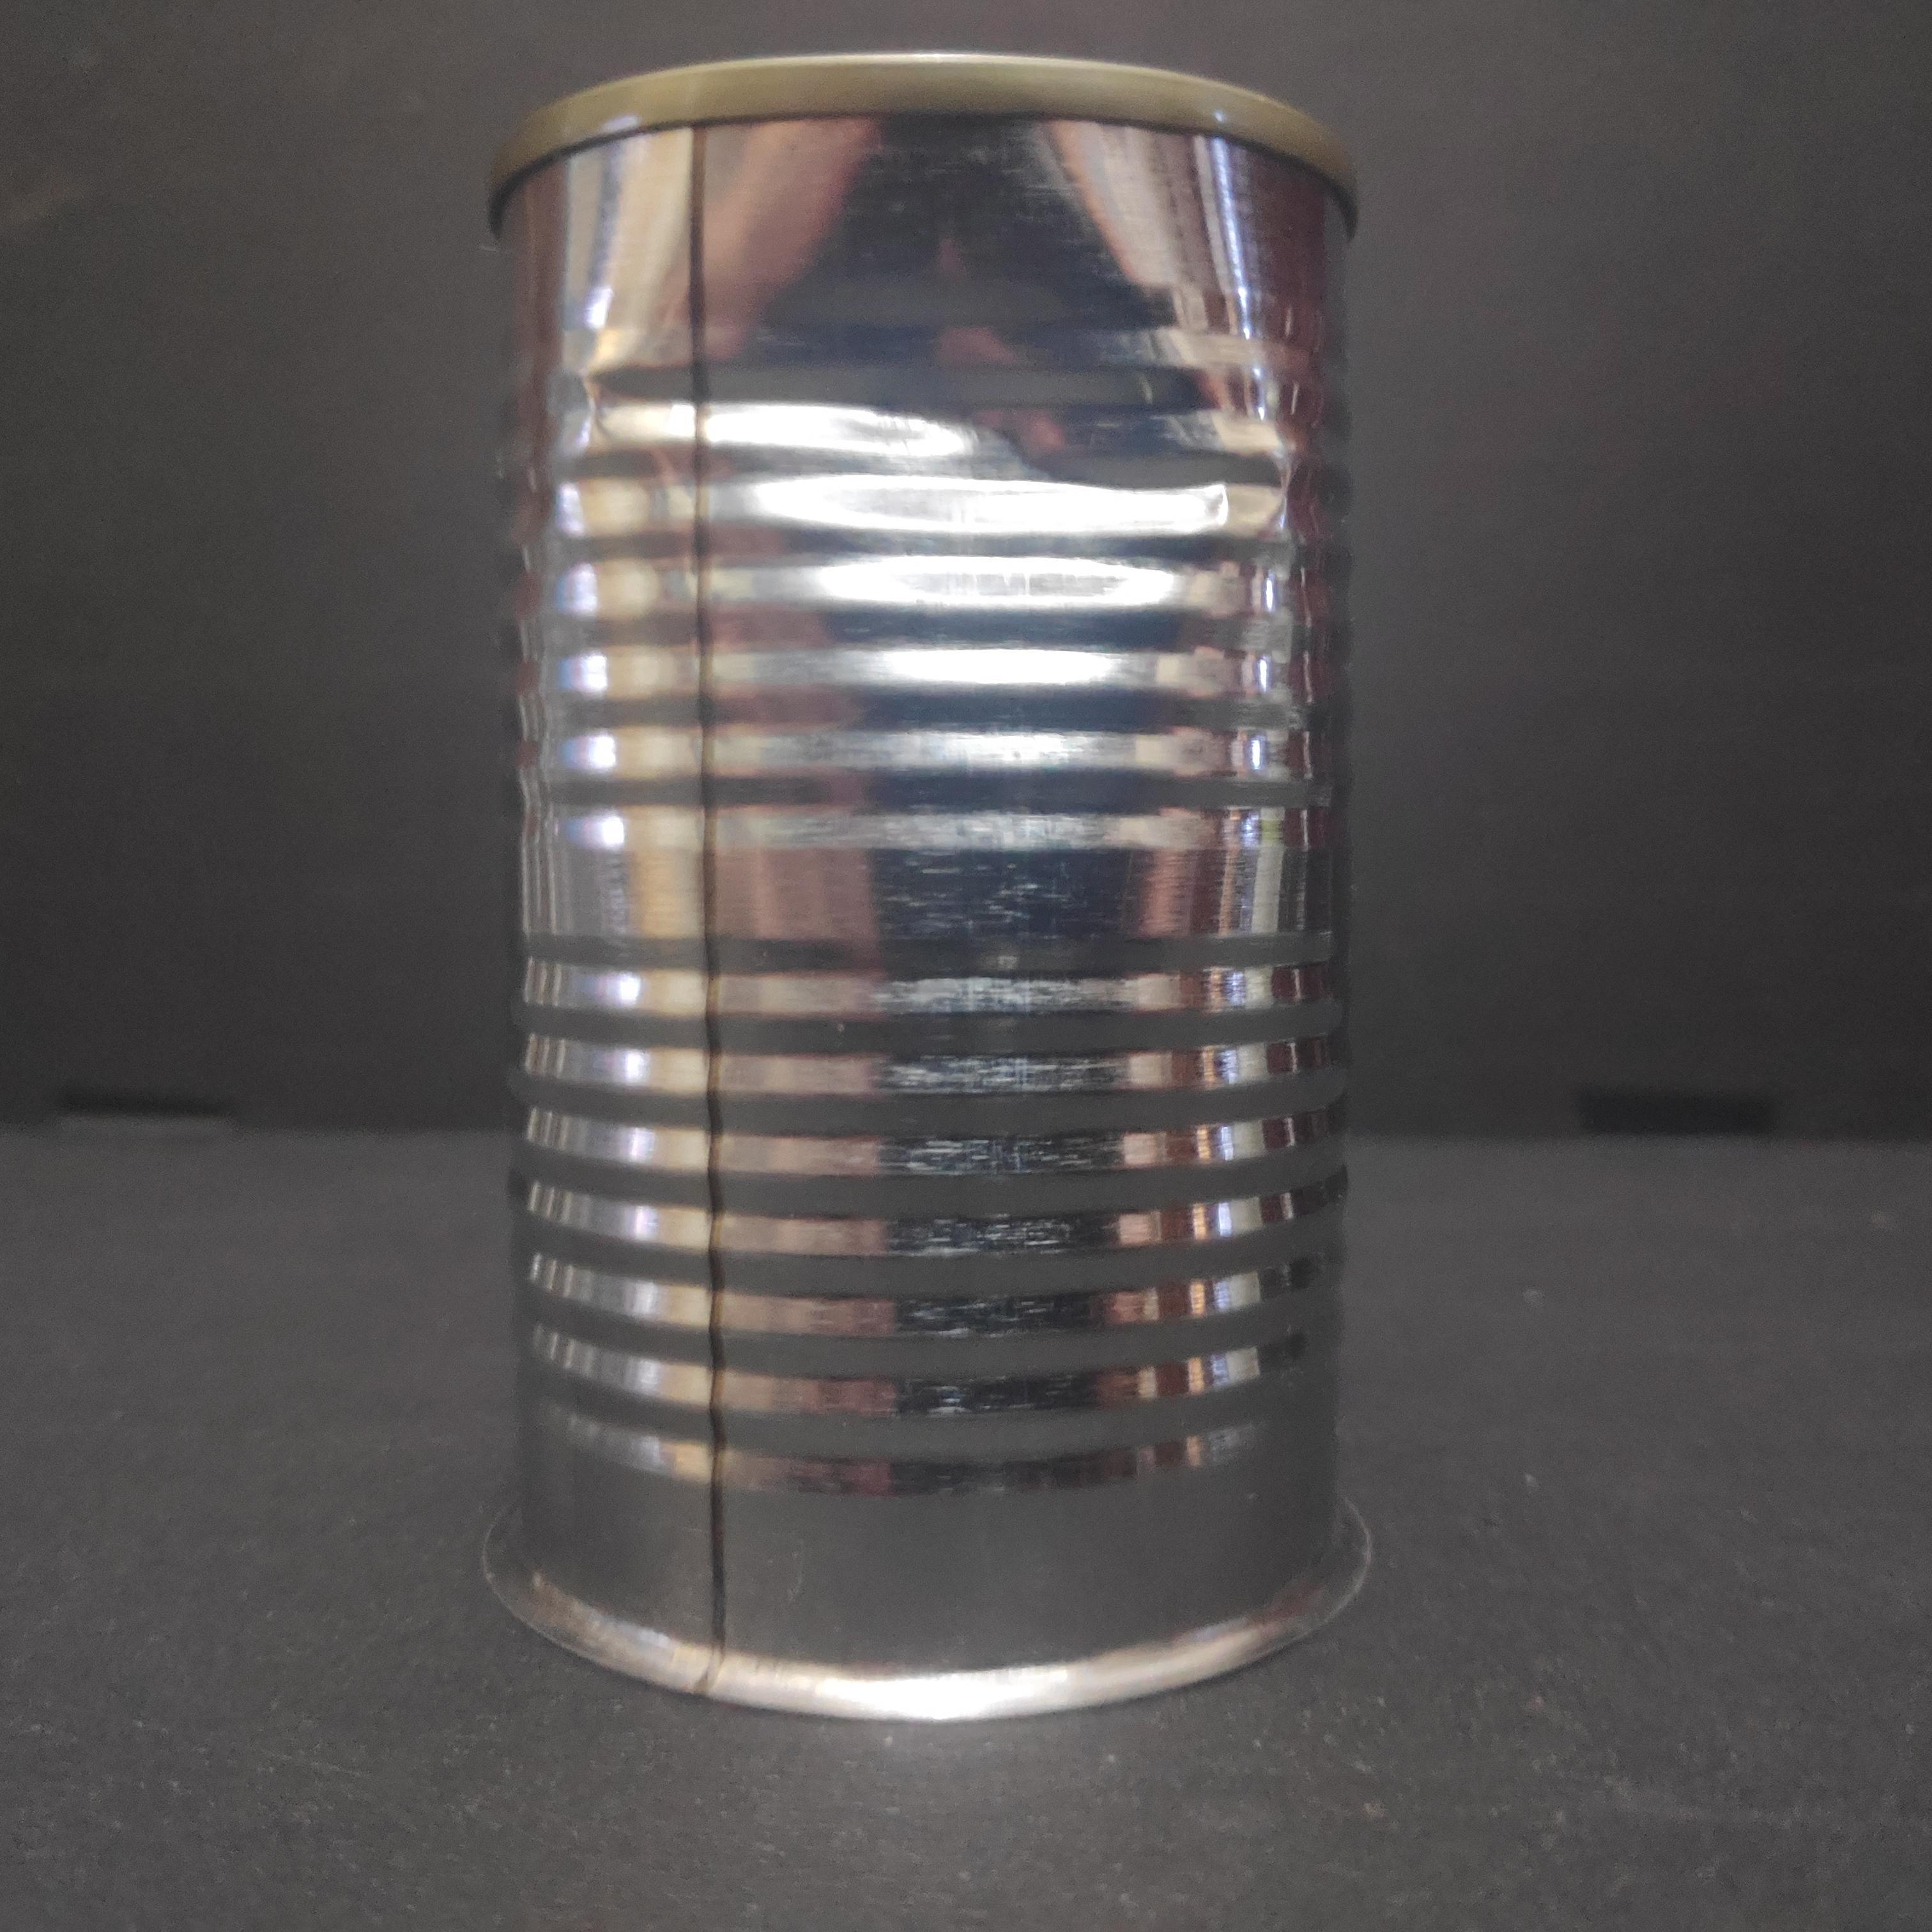Dented: (472, 41, 1437, 1748)
